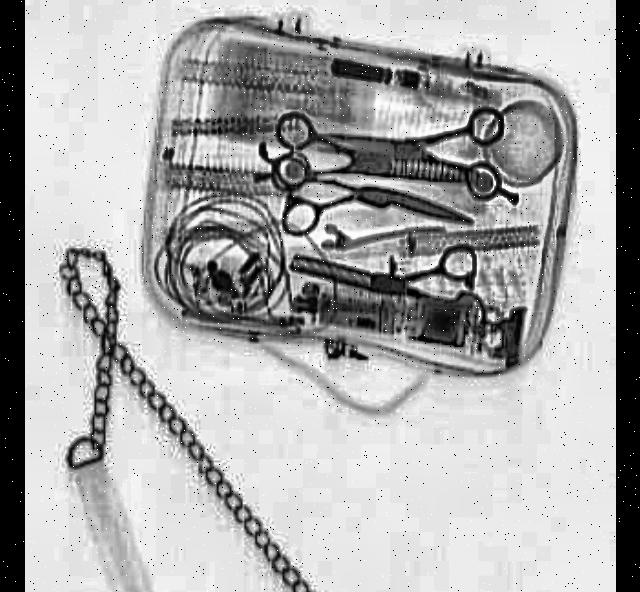Scissors: (266, 108, 496, 213), (282, 223, 486, 333), (324, 94, 502, 194), (272, 166, 470, 242)
